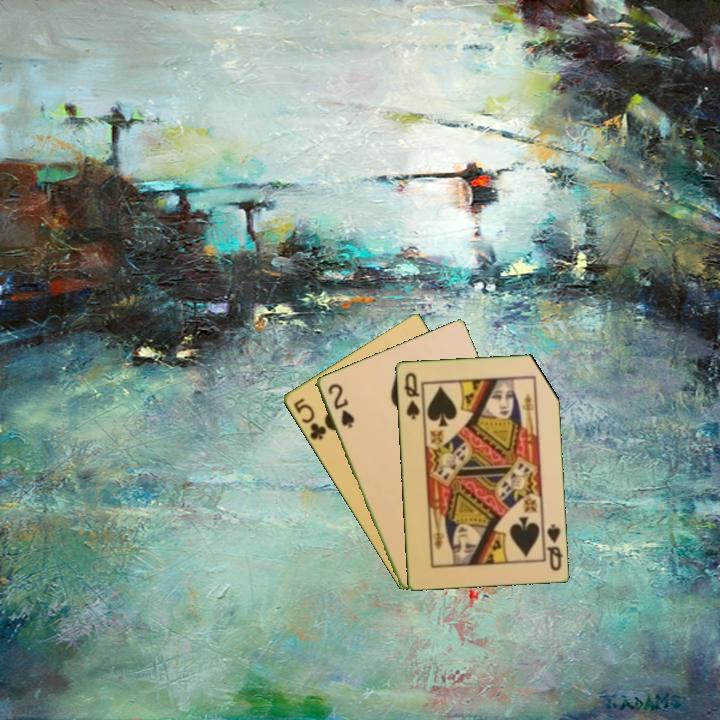2s: (324, 380, 357, 431)
5c: (289, 394, 329, 443)
Qs: (400, 368, 422, 422), (543, 520, 565, 574)
